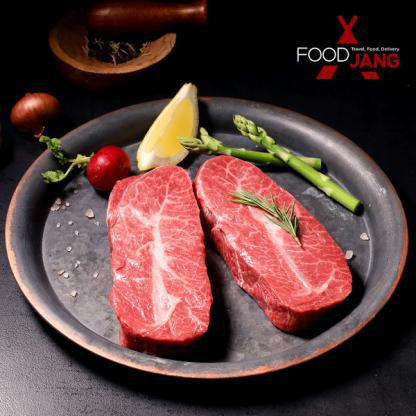beef: (208, 156, 356, 334), (108, 169, 216, 350)
